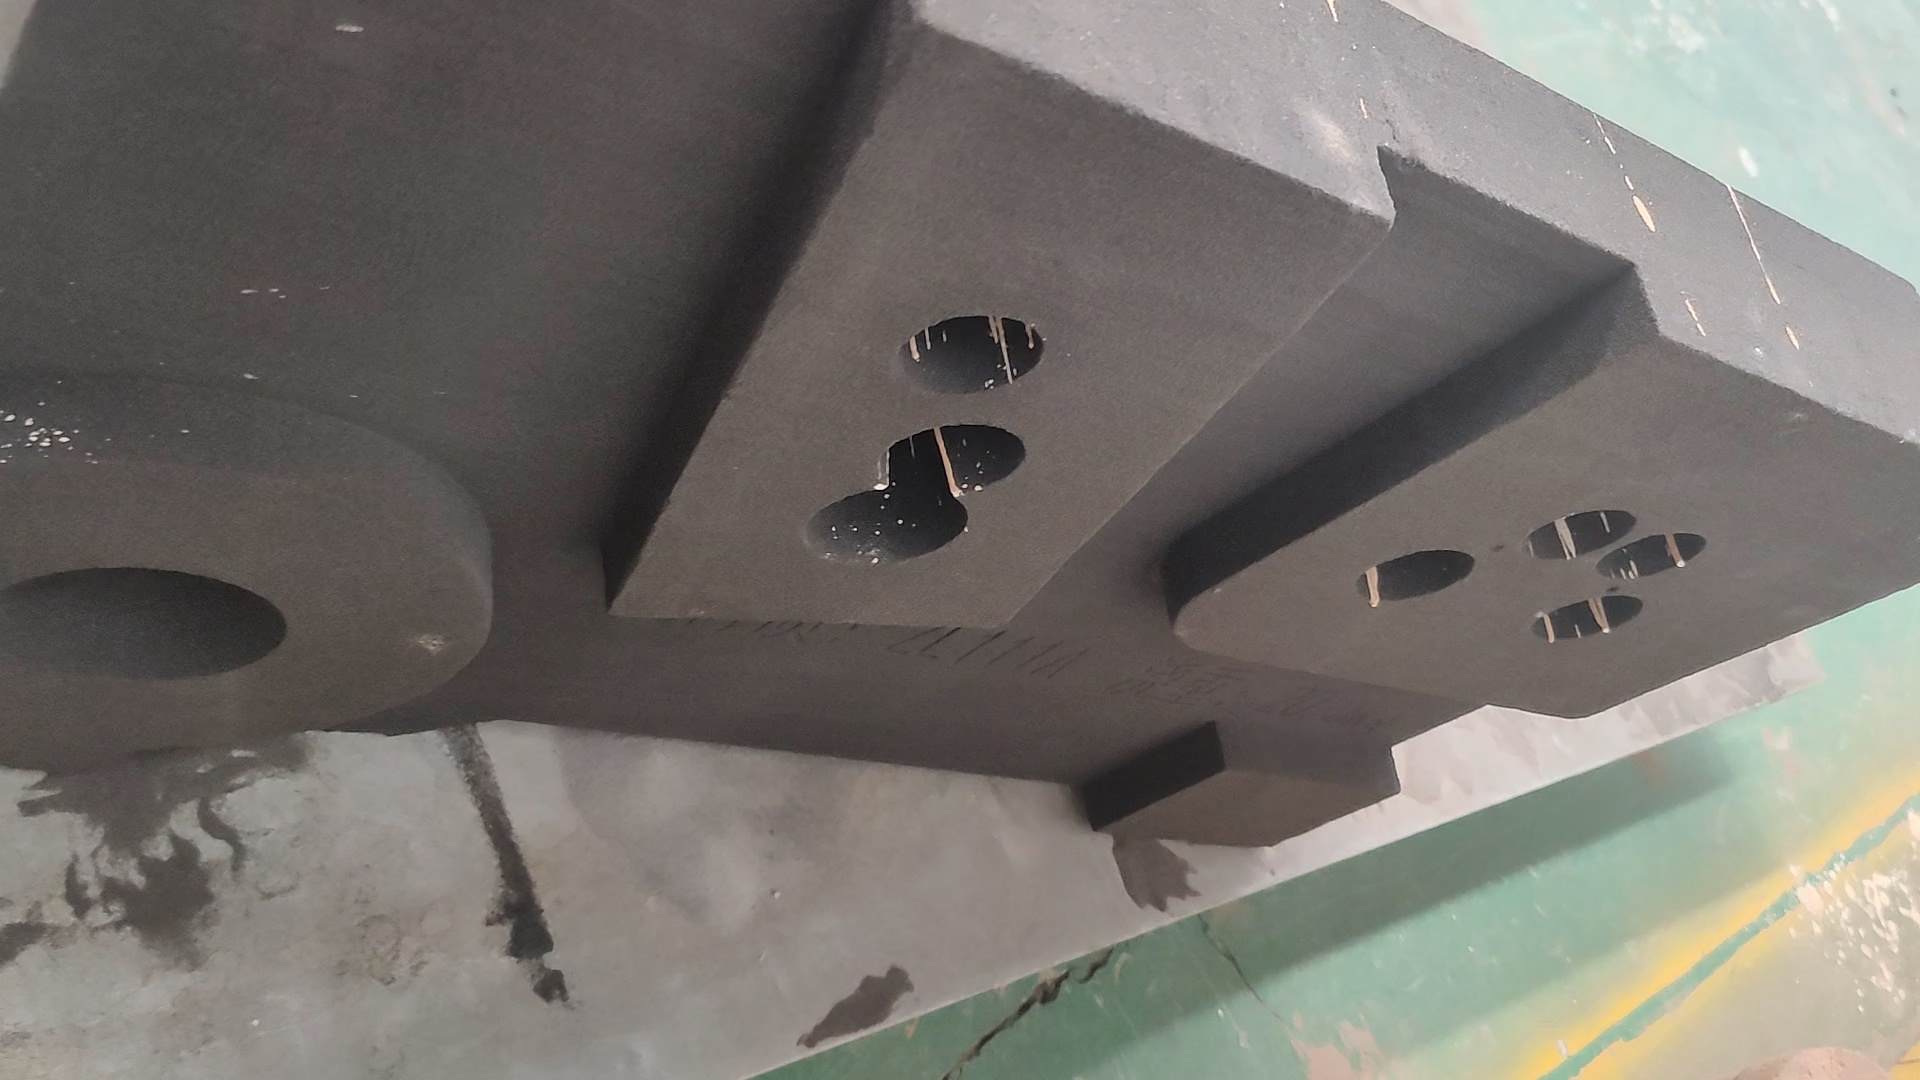pouring hole: (1, 564, 287, 684)
